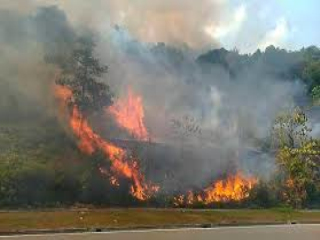fire: (54, 80, 157, 201), (171, 168, 263, 210)
smoke: (167, 41, 315, 163)
